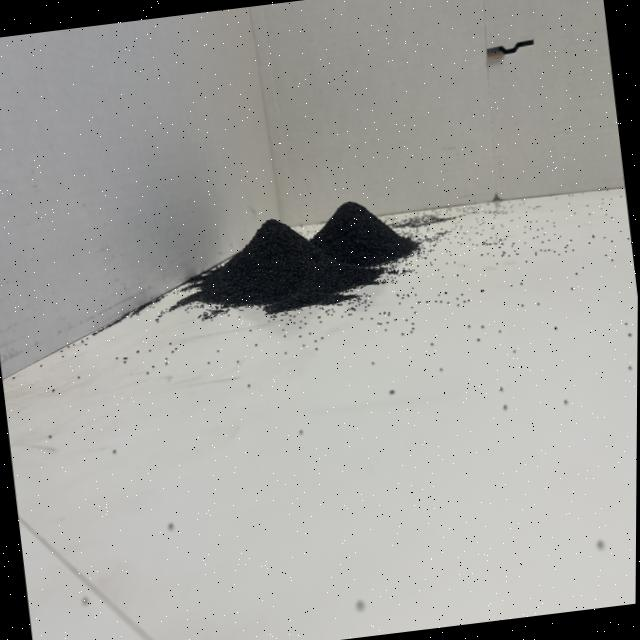Poppy Seeds: (183, 176, 428, 350)
